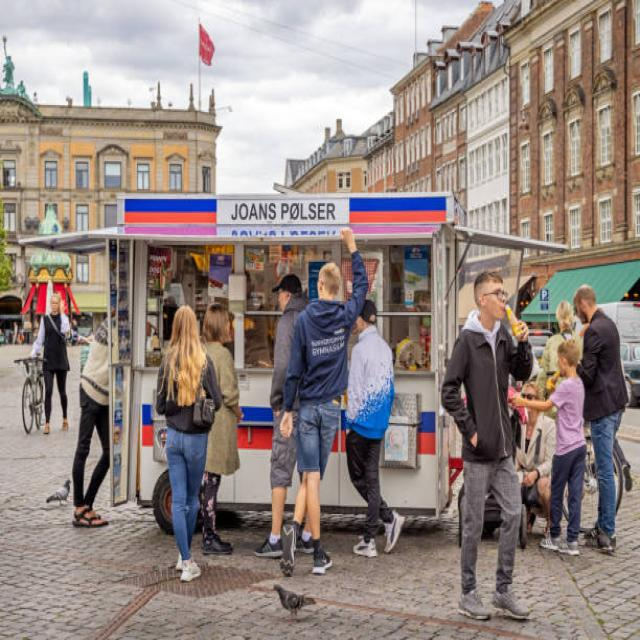Emperan: (17, 184, 590, 566)
